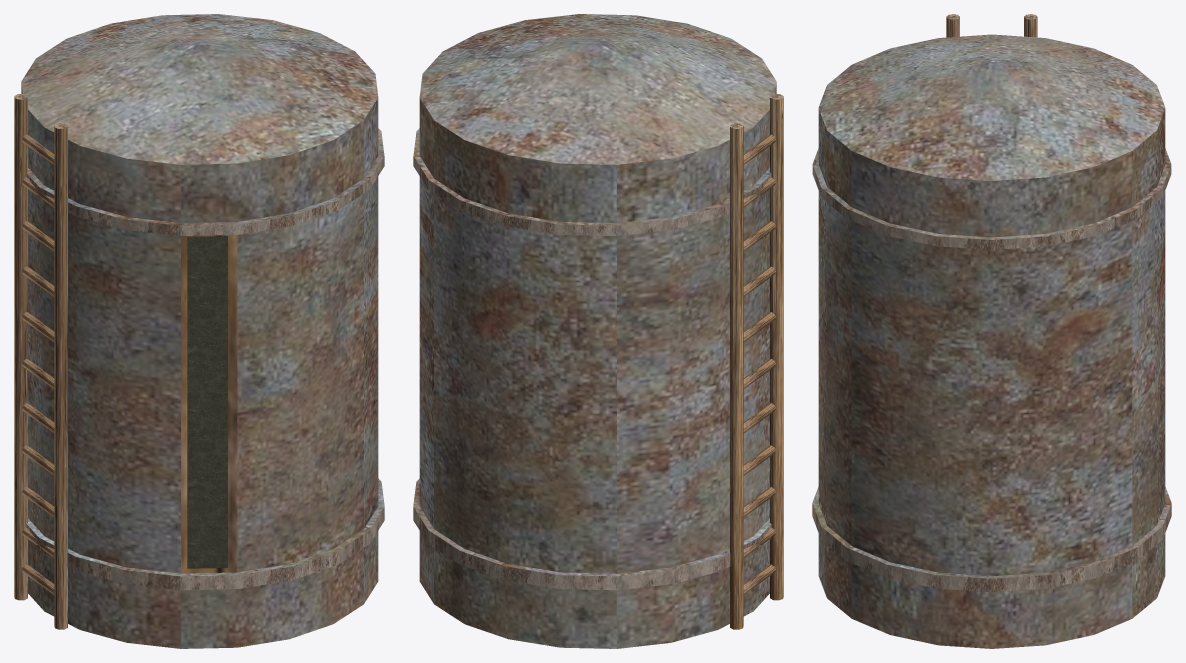
File: cistern.fbx
The picture shows the model from 3 angles, left to right: view 1: azimuth 30°, elevation 25°; view 2: azimuth 150°, elevation 25°; view 3: azimuth 270°, elevation 25°; orthographic projection. The views are drawn at different scales.
Parts seen in each view (by area): view 1: cistern, ledder1, inside_2, inside_3, inside_4, inside_1; view 2: cistern, ledder1; view 3: cistern, ledder1.
Part boxes in pixels (x1,y1,x2,y2): cistern: (21,14,384,648); ledder1: (14,94,67,629); inside_2: (187,398,227,493); inside_3: (187,316,227,399); inside_4: (187,236,227,316); inside_1: (187,493,227,568); cistern: (413,14,776,648); ledder1: (729,94,783,629); cistern: (812,34,1171,648); ledder1: (946,14,1037,37).
Size of the model in its own units: 2.1 by 3.26 by 2.07.
